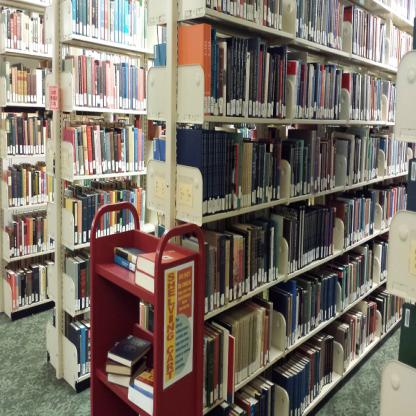book: (180, 0, 414, 416), (67, 0, 158, 390), (0, 6, 47, 318), (128, 380, 152, 416)
